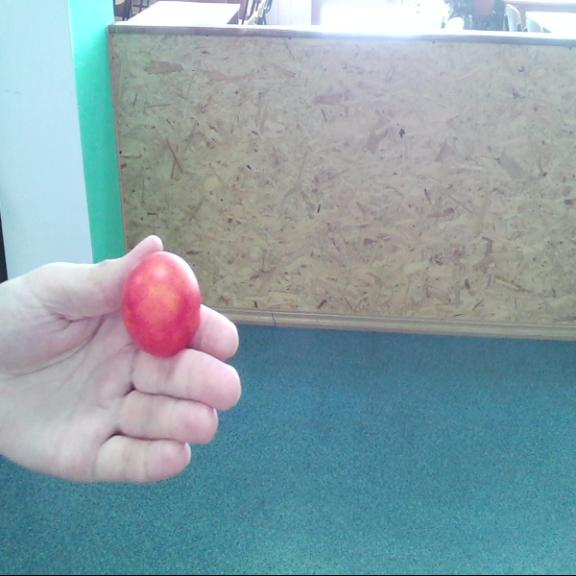ball: (124, 251, 202, 355)
